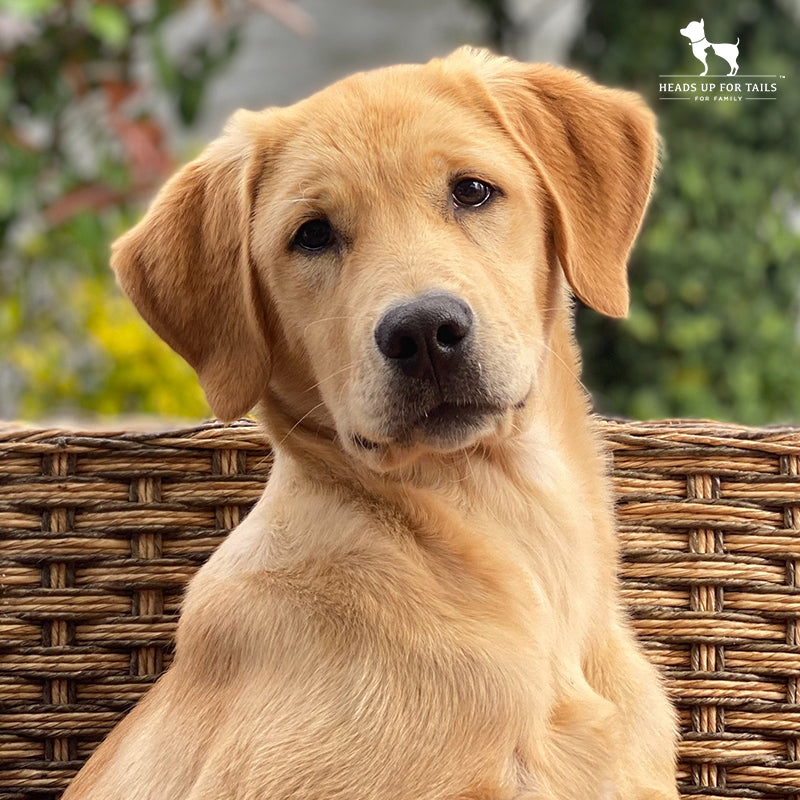Dog: (22, 38, 736, 795)
